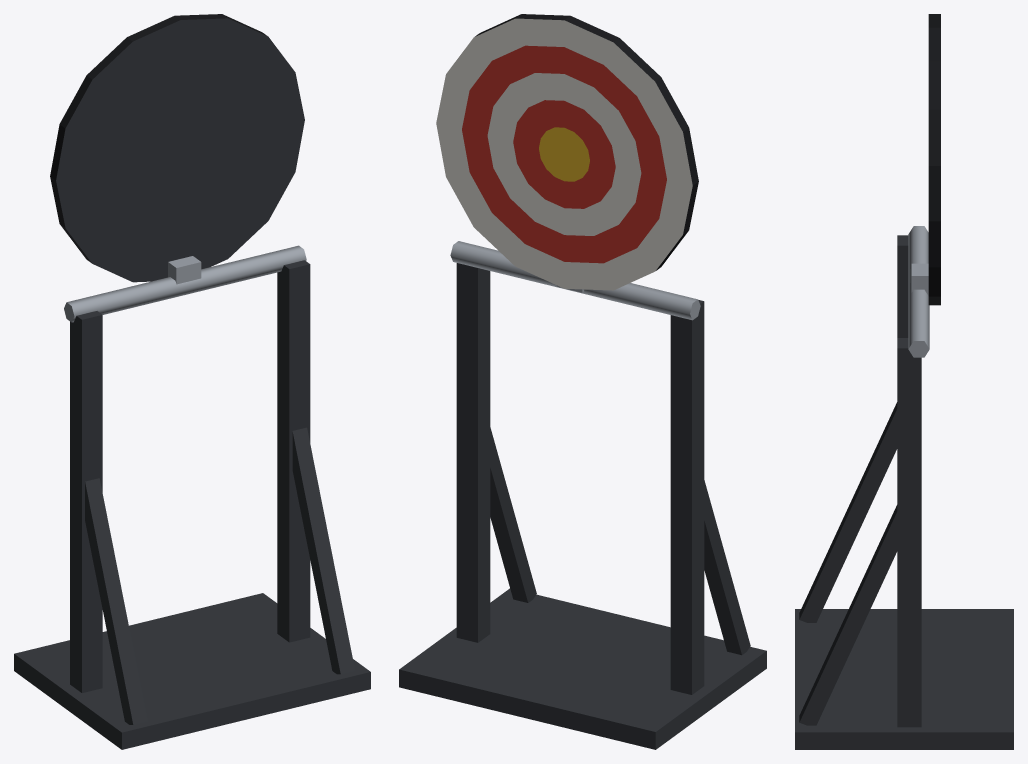
File: prop_target_round.glb
3 views of the same model, side by side, from view 1: azimuth 30°, elevation 25°; view 2: azimuth 150°, elevation 25°; view 3: azimuth 270°, elevation 25° (orthographic). The views are drawn at different scales.
Parts seen in each view (by area): view 1: prop_target_round__mesh, prop_target_round__target; view 2: prop_target_round__mesh, prop_target_round__target; view 3: prop_target_round__mesh, prop_target_round__target.
Part boxes in pixels (x1,y1,x2,y2): prop_target_round__mesh: [14, 245, 370, 749]; prop_target_round__target: [50, 14, 304, 284]; prop_target_round__mesh: [399, 241, 766, 749]; prop_target_round__target: [436, 14, 698, 292]; prop_target_round__mesh: [795, 226, 1013, 749]; prop_target_round__target: [911, 14, 940, 305].
Bounding box in the file's own units: 0.6 × 1.5 × 0.45.
Materials: 1 (1 with a texture image).
